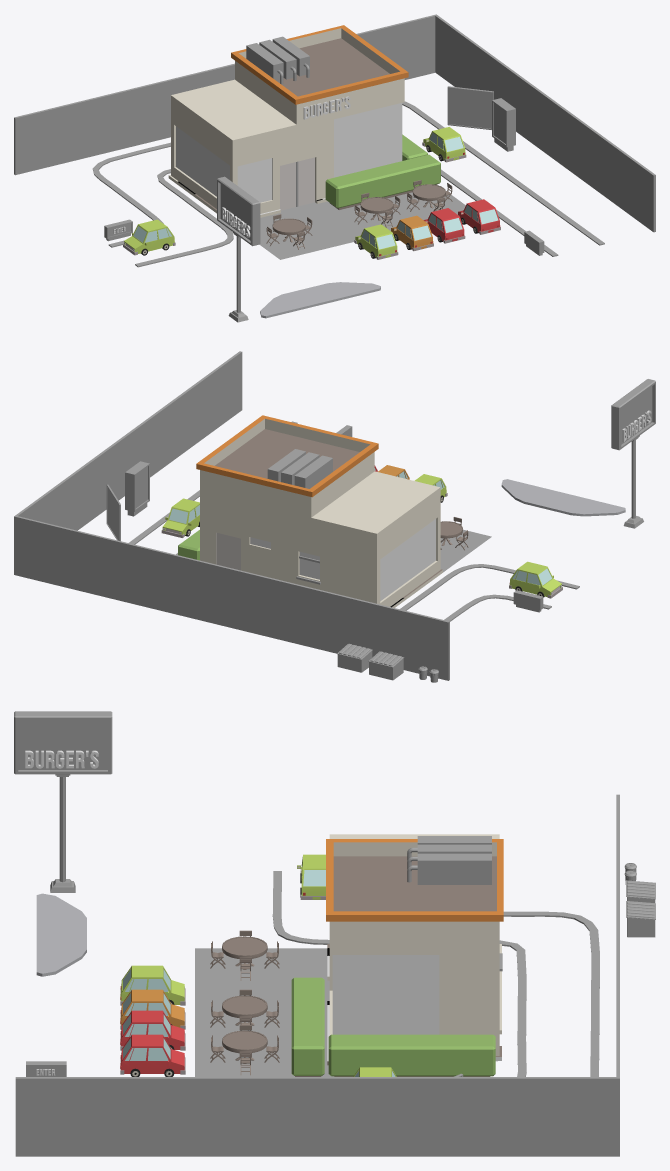
Rendered from hamburguesas.fbx.
3 renders of one model, top to bottom at view 1: azimuth 30°, elevation 25°; view 2: azimuth 150°, elevation 25°; view 3: azimuth 270°, elevation 25°, orthographic. The views are drawn at different scales.
Visible parts, largest first — view 1: pCube1768, pCube1795, pPlane49, pCube2006, pCube1775, pCube1796, pCube2061, pCube1786, pCube1799, pCube2059, pCube2058, pCube2060 (+11 smaller); view 2: pCube1795, pCube1768, pCube1775, pCube2061, pCube2059, pCube2060, pCube1789, pPlane49, polySurface40, pCube1837, polySurface41, pCube1796 (+5 smaller); view 3: pCube1795, pCube1768, pPlane49, pCube2007, pCube1775, pCube2061, pCube2006, pCube1836, pCube2057, pCube1799, pCube1796, pCube2056 (+10 smaller).
Part boxes in pixels (box(x1,y1,x2,y2)): pCube1768: box(168, 25, 408, 217); pCube1795: box(14, 14, 655, 232); pPlane49: box(259, 184, 465, 259); pCube2006: box(325, 154, 440, 209); pCube1775: box(217, 176, 260, 322); pCube1796: box(92, 101, 604, 247); pCube2061: box(260, 282, 380, 318); pCube1786: box(447, 86, 493, 129); pCube1799: box(135, 169, 558, 267); pCube2059: box(123, 219, 175, 255); pCube2058: box(354, 224, 398, 259); pCube2060: box(422, 127, 466, 162); pCube1795: box(14, 351, 449, 680); pCube1768: box(196, 415, 442, 607); pCube1775: box(611, 379, 655, 528); pCube2061: box(501, 479, 625, 516); pCube2059: box(509, 561, 562, 598); pCube2060: box(161, 498, 199, 537); pCube1789: box(125, 461, 149, 511); pPlane49: box(440, 529, 491, 572); polySurface40: box(368, 651, 404, 680); pCube1837: box(294, 455, 332, 488); polySurface41: box(337, 643, 372, 672); pCube1796: box(129, 421, 551, 621); pCube1795: box(15, 794, 619, 1156); pCube1768: box(326, 834, 503, 1065); pPlane49: box(195, 948, 334, 1076); pCube2007: box(328, 1034, 495, 1076); pCube1775: box(14, 711, 112, 892); pCube2061: box(36, 893, 86, 976); pCube2006: box(291, 977, 324, 1076); pCube1836: box(417, 853, 491, 884); pCube2057: box(120, 1034, 185, 1076); pCube1799: box(272, 871, 526, 1076); pCube1796: box(503, 911, 599, 1076); pCube2056: box(120, 1010, 185, 1050).
Bounding box in the file's own units: 117 × 33.74 × 112.
